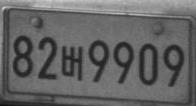0: (138, 42, 159, 86)
2: (37, 35, 57, 80)
8: (11, 34, 33, 77)
9: (163, 43, 185, 87), (87, 39, 109, 82), (112, 40, 134, 83)
버: (61, 45, 83, 80)
